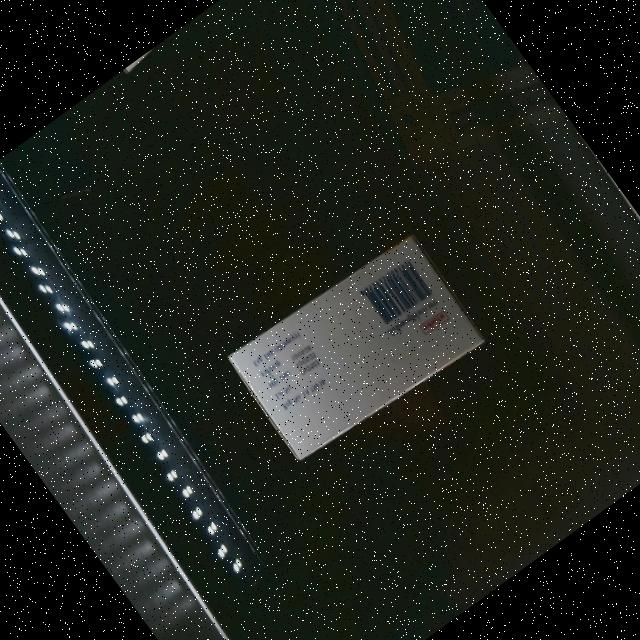sefloc: (225, 232, 483, 461)
